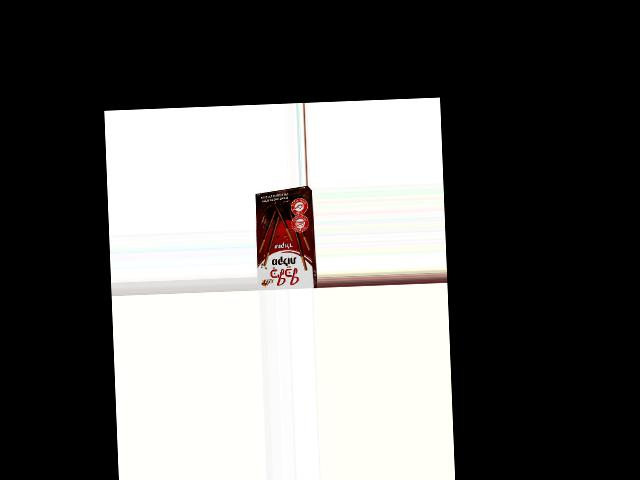chocolate: (253, 192, 316, 290)
